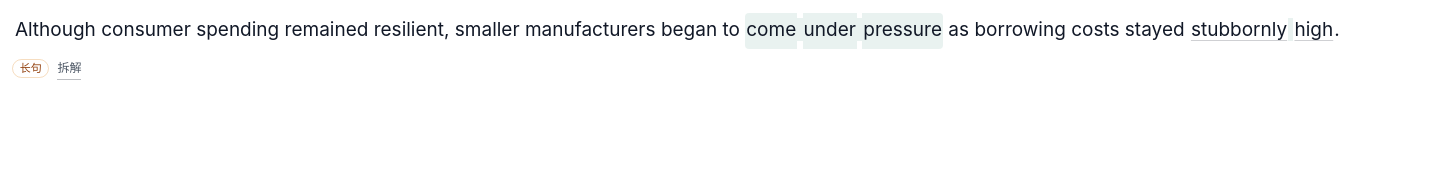
Test: SentenceBlock › opens and closes translation when the sentence is clicked
Click the button with test id "sentence-sentence_long".
click(732, 31)  # box [12,12,1451,50]
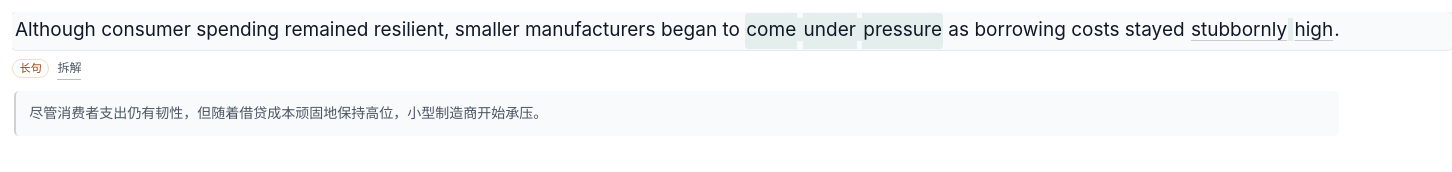
Expected: the text "尽管消费者支出仍有韧性，但随着借贷成本顽固地保持高位，小型制造商开始承压。" is shown, [14,91,1339,136]
Click the button with test id "sentence-sentence_long".
click(732, 31)  # box [12,12,1451,50]
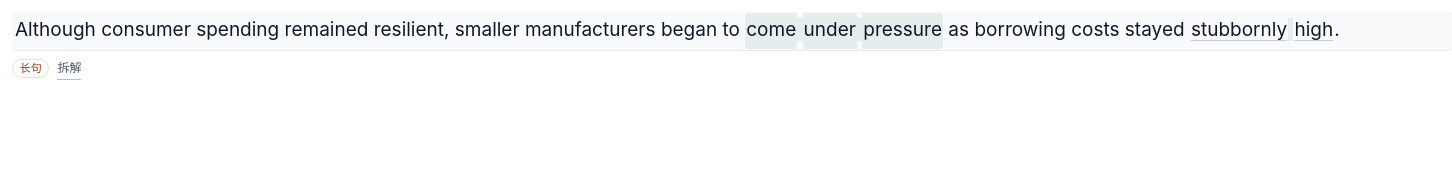
Expected: the text "尽管消费者支出仍有韧性，但随着借贷成本顽固地保持高位，小型制造商开始承压。" is gone
